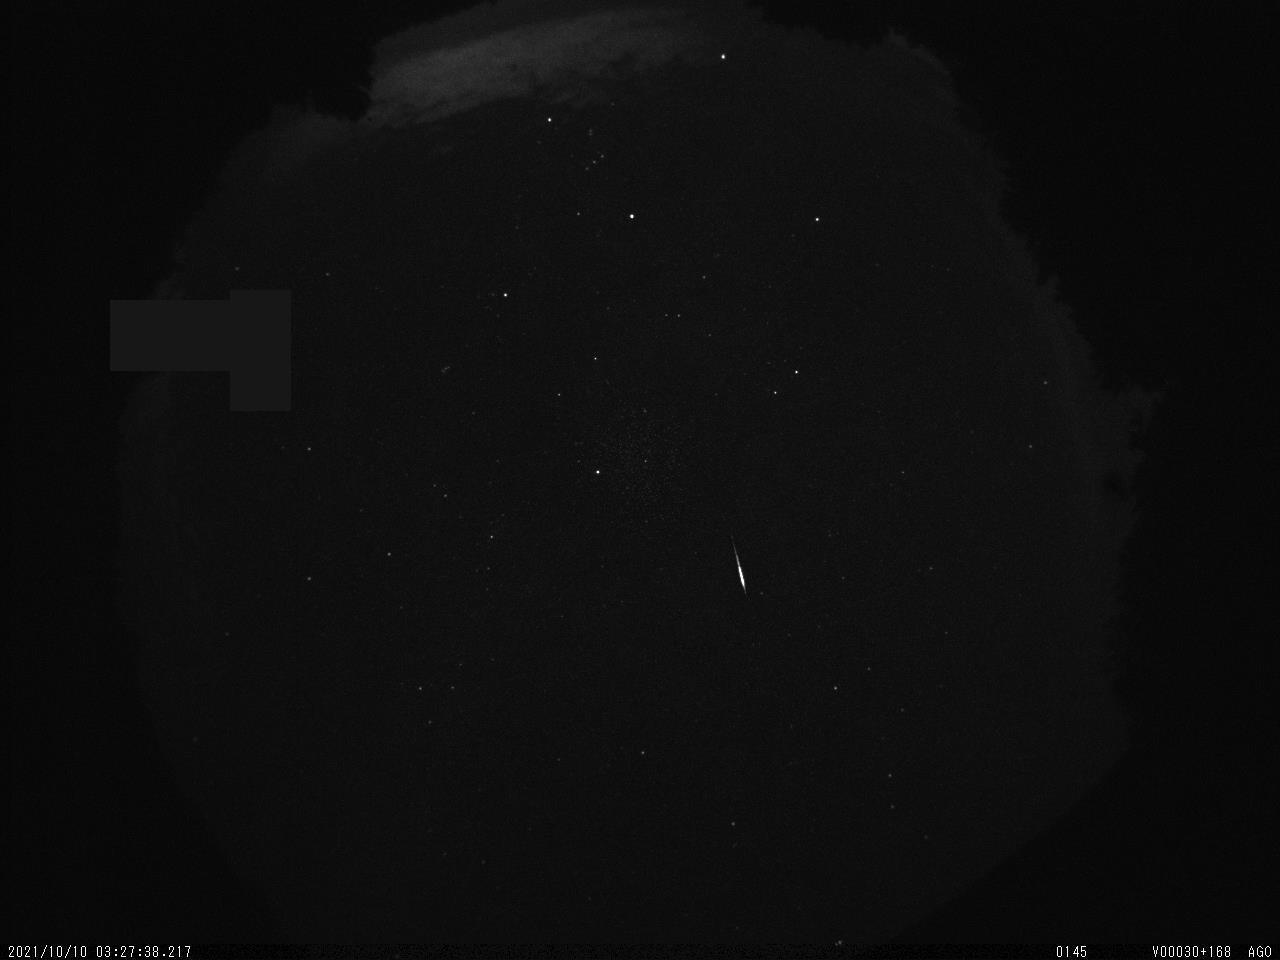meteor: (711, 517, 769, 612)
